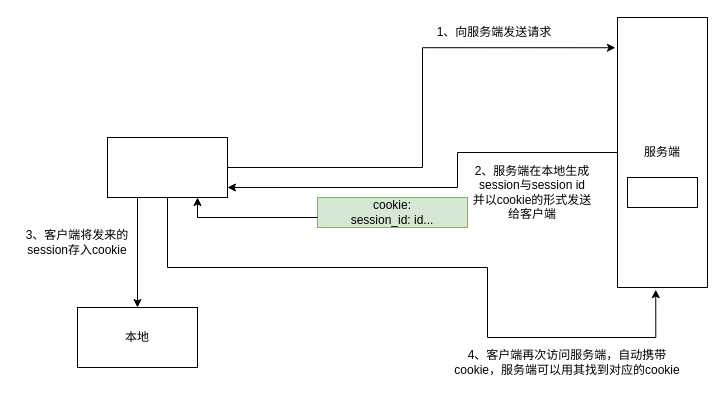
Image size: 725x395. Some labels were removed from this diagram. The shapes that lost their labels are listed below. From the top down, each one's centre as x and y in pixels, then its label:
point (167, 167): 客户端
point (662, 192): session
